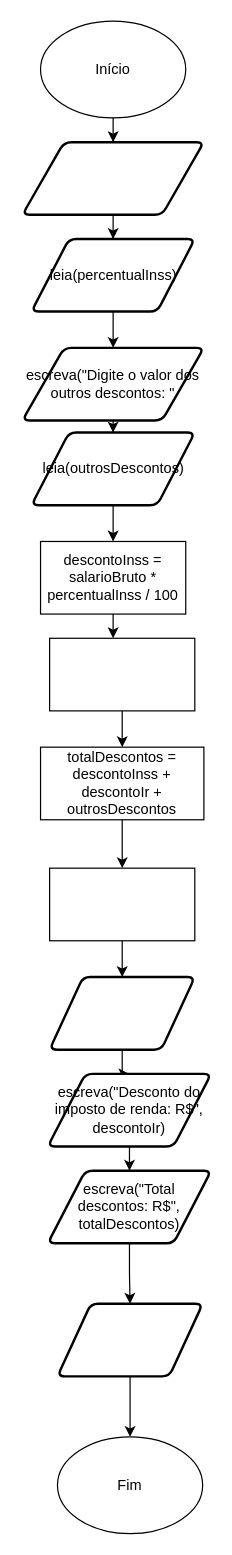
The diagram is 232 pixels wide and 1555 high, and some of its shapes have lost their labels. The centre of each missing label's shape, as x and y in pixels:
descontoIr = salarioBruto * percentualIr / 100: the point at 121,674
escreva("Desconto do INSS: R$", descontoInss): the point at 121,1012
escreva("Digite o percentual do INSS: ": the point at 112,177
escreva("Salário líquido: R$", salarioLiquido): the point at 129,1339
salarioLiquido = salarioBruto - totalDescontos: the point at 121,904
